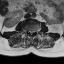CCS_stenosis: (30, 29, 32, 36)
LFS_severe_stenosis: (34, 29, 36, 34)
LLS_stenosis: (32, 29, 34, 34)
RFS_severe_stenosis: (26, 28, 28, 33)
RLS_stenosis: (28, 29, 30, 34)
